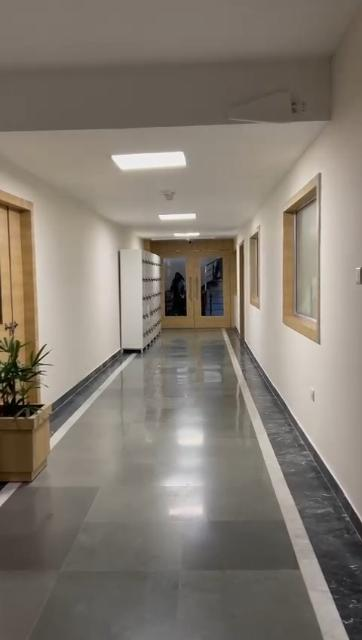door: (0, 198, 44, 338), (166, 241, 236, 325)
floor: (1, 329, 362, 640)
object: (0, 329, 48, 491)
wall: (320, 108, 362, 454), (48, 188, 128, 364), (256, 208, 290, 356)
